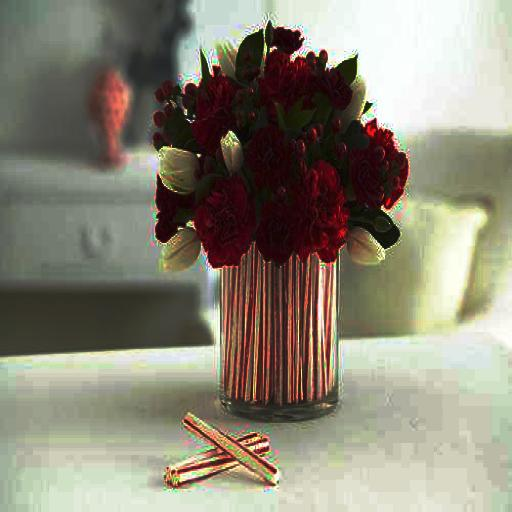rose: (191, 171, 259, 269), (295, 158, 349, 262), (188, 75, 242, 151), (257, 51, 304, 115), (248, 125, 291, 189), (348, 143, 384, 214)
